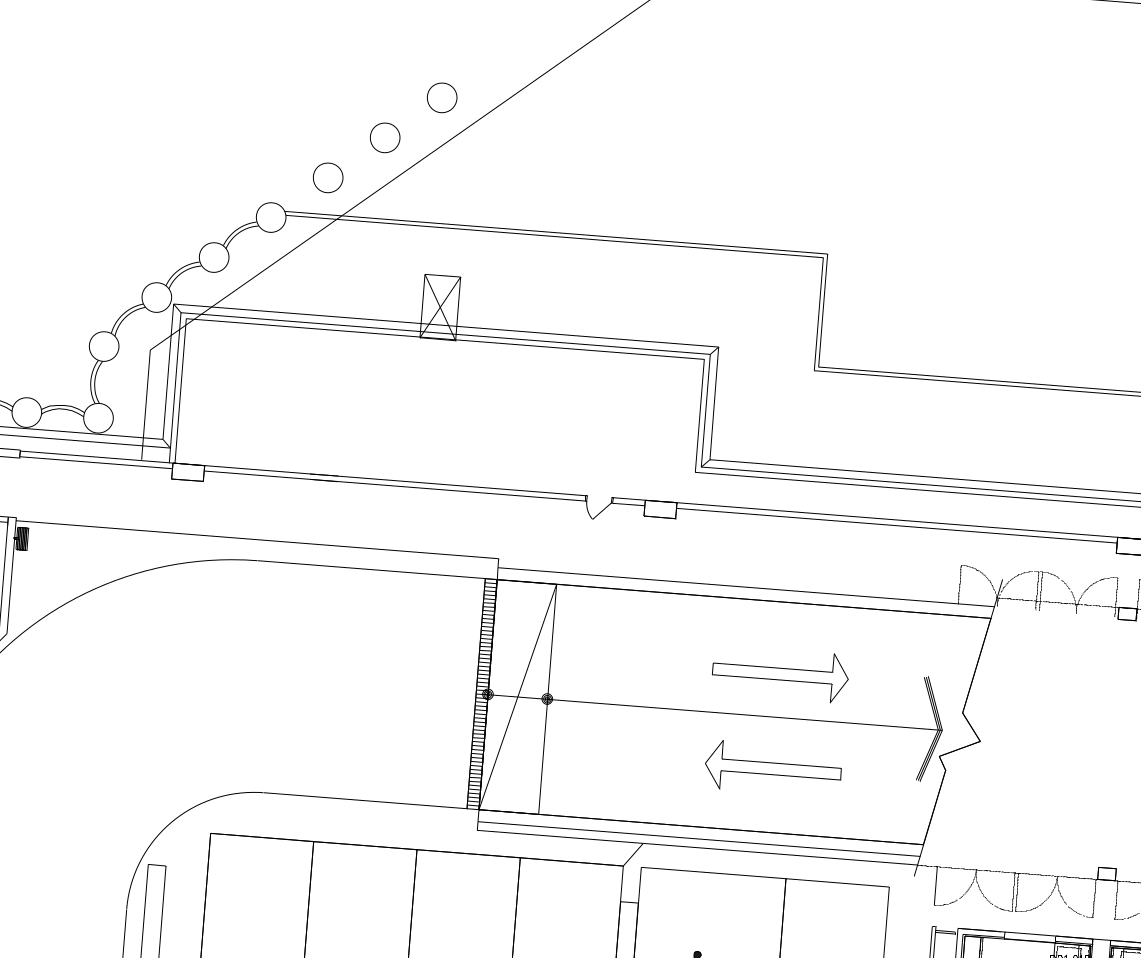door: (928, 863, 1017, 917), (951, 558, 997, 610), (1055, 870, 1101, 922), (578, 484, 622, 535)
